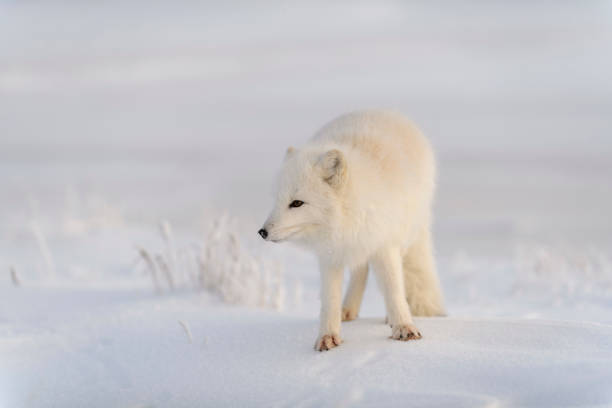arcticfox: (250, 163, 332, 258)
